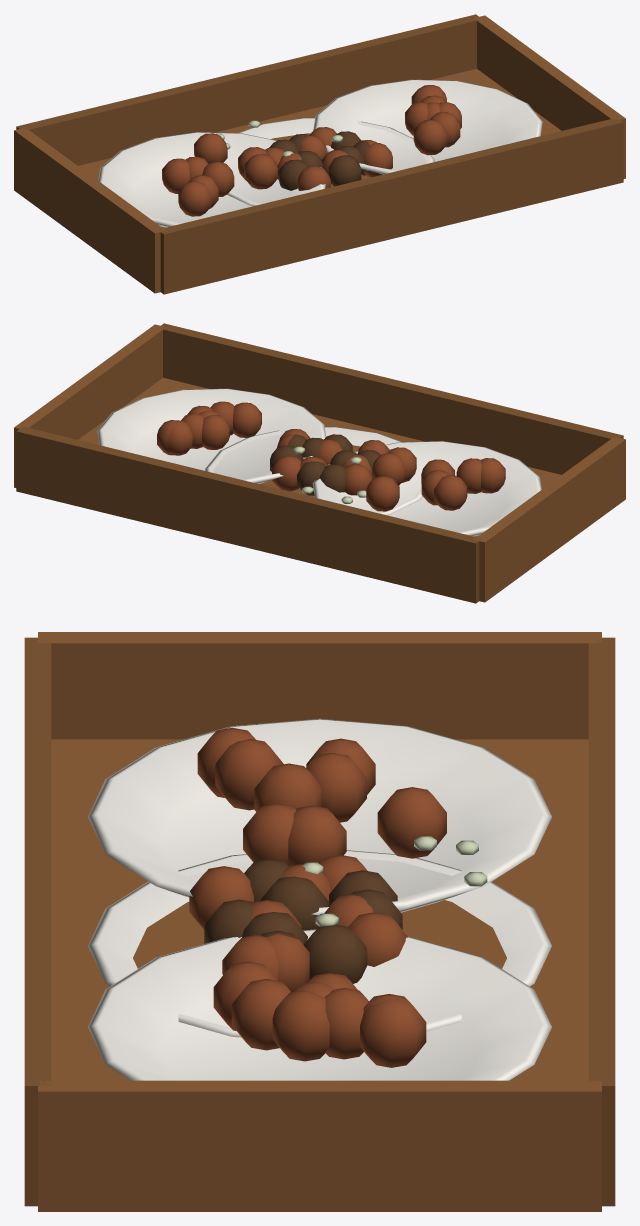
Rendered from Meat_Meatball.fbx.
The picture shows the model from 3 angles, top to bottom: view 1: azimuth 30°, elevation 25°; view 2: azimuth 150°, elevation 25°; view 3: azimuth 270°, elevation 25°; orthographic projection. The views are drawn at different scales.
Parts seen in each view (by area): view 1: Meat_Meatball__Stack, Meat_Meatball, Meat_Meatball__Rotten; view 2: Meat_Meatball__Stack, Meat_Meatball, Meat_Meatball__Rotten; view 3: Meat_Meatball__Stack, Meat_Meatball, Meat_Meatball__Rotten.
Boxes of the visible parts, x1,y1,x2,y2 form: Meat_Meatball__Stack: (14,14,625,294); Meat_Meatball: (227,118,434,206); Meat_Meatball__Rotten: (216,120,369,190); Meat_Meatball__Stack: (14,323,625,603); Meat_Meatball: (205,427,422,515); Meat_Meatball__Rotten: (270,434,380,503); Meat_Meatball__Stack: (24,632,615,1211); Meat_Meatball: (88,850,551,1037); Meat_Meatball__Rotten: (204,836,487,983).
Size of the model in its own units: 0.328 by 0.04 by 0.178.
